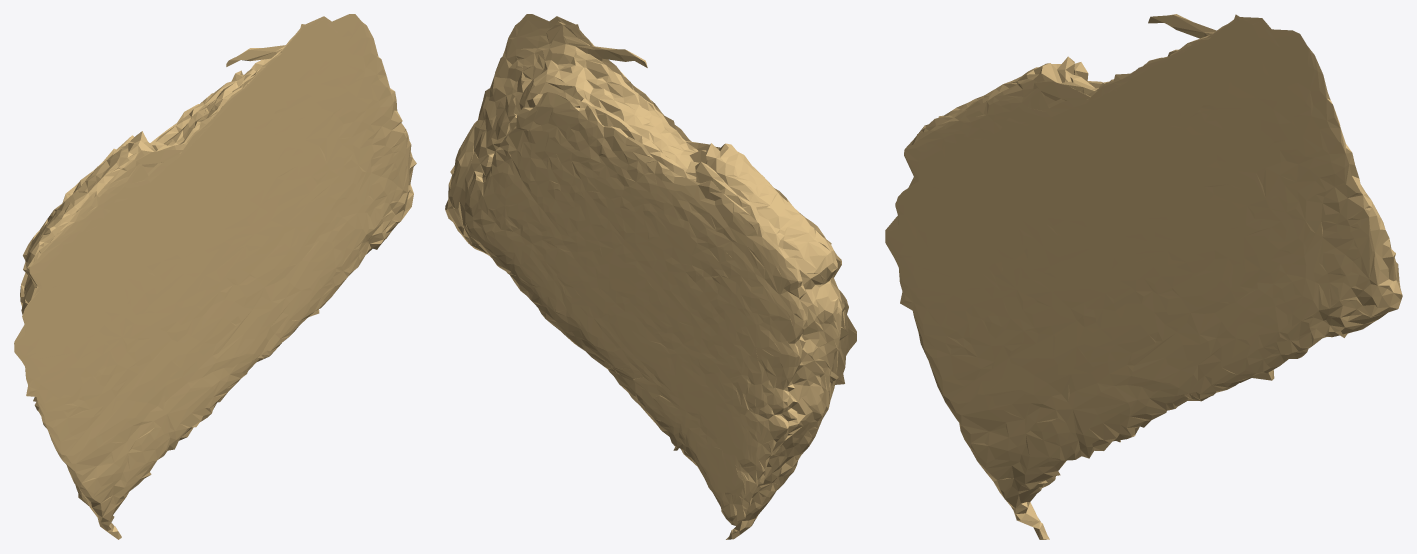
The model's file is improved.glb.
3 renders of one model, left to right at view 1: azimuth 30°, elevation 25°; view 2: azimuth 150°, elevation 25°; view 3: azimuth 330°, elevation 25°, orthographic. The views are drawn at different scales.
Parts seen in each view (by area): view 1: world; view 2: world; view 3: world.
Part boxes in pixels (x1,y1,x2,y2): world: (14,14,416,539); world: (445,14,856,539); world: (885,14,1402,539).
Bounding box in the file's own units: 1.2 × 1.35 × 0.1439.
